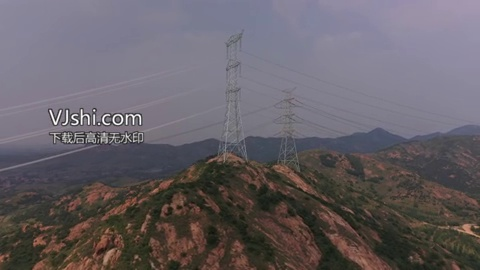tower_body: (217, 28, 255, 166), (274, 84, 305, 174)
tower_foot: (218, 135, 251, 163), (277, 150, 300, 171)
tower_head: (223, 31, 246, 47)
